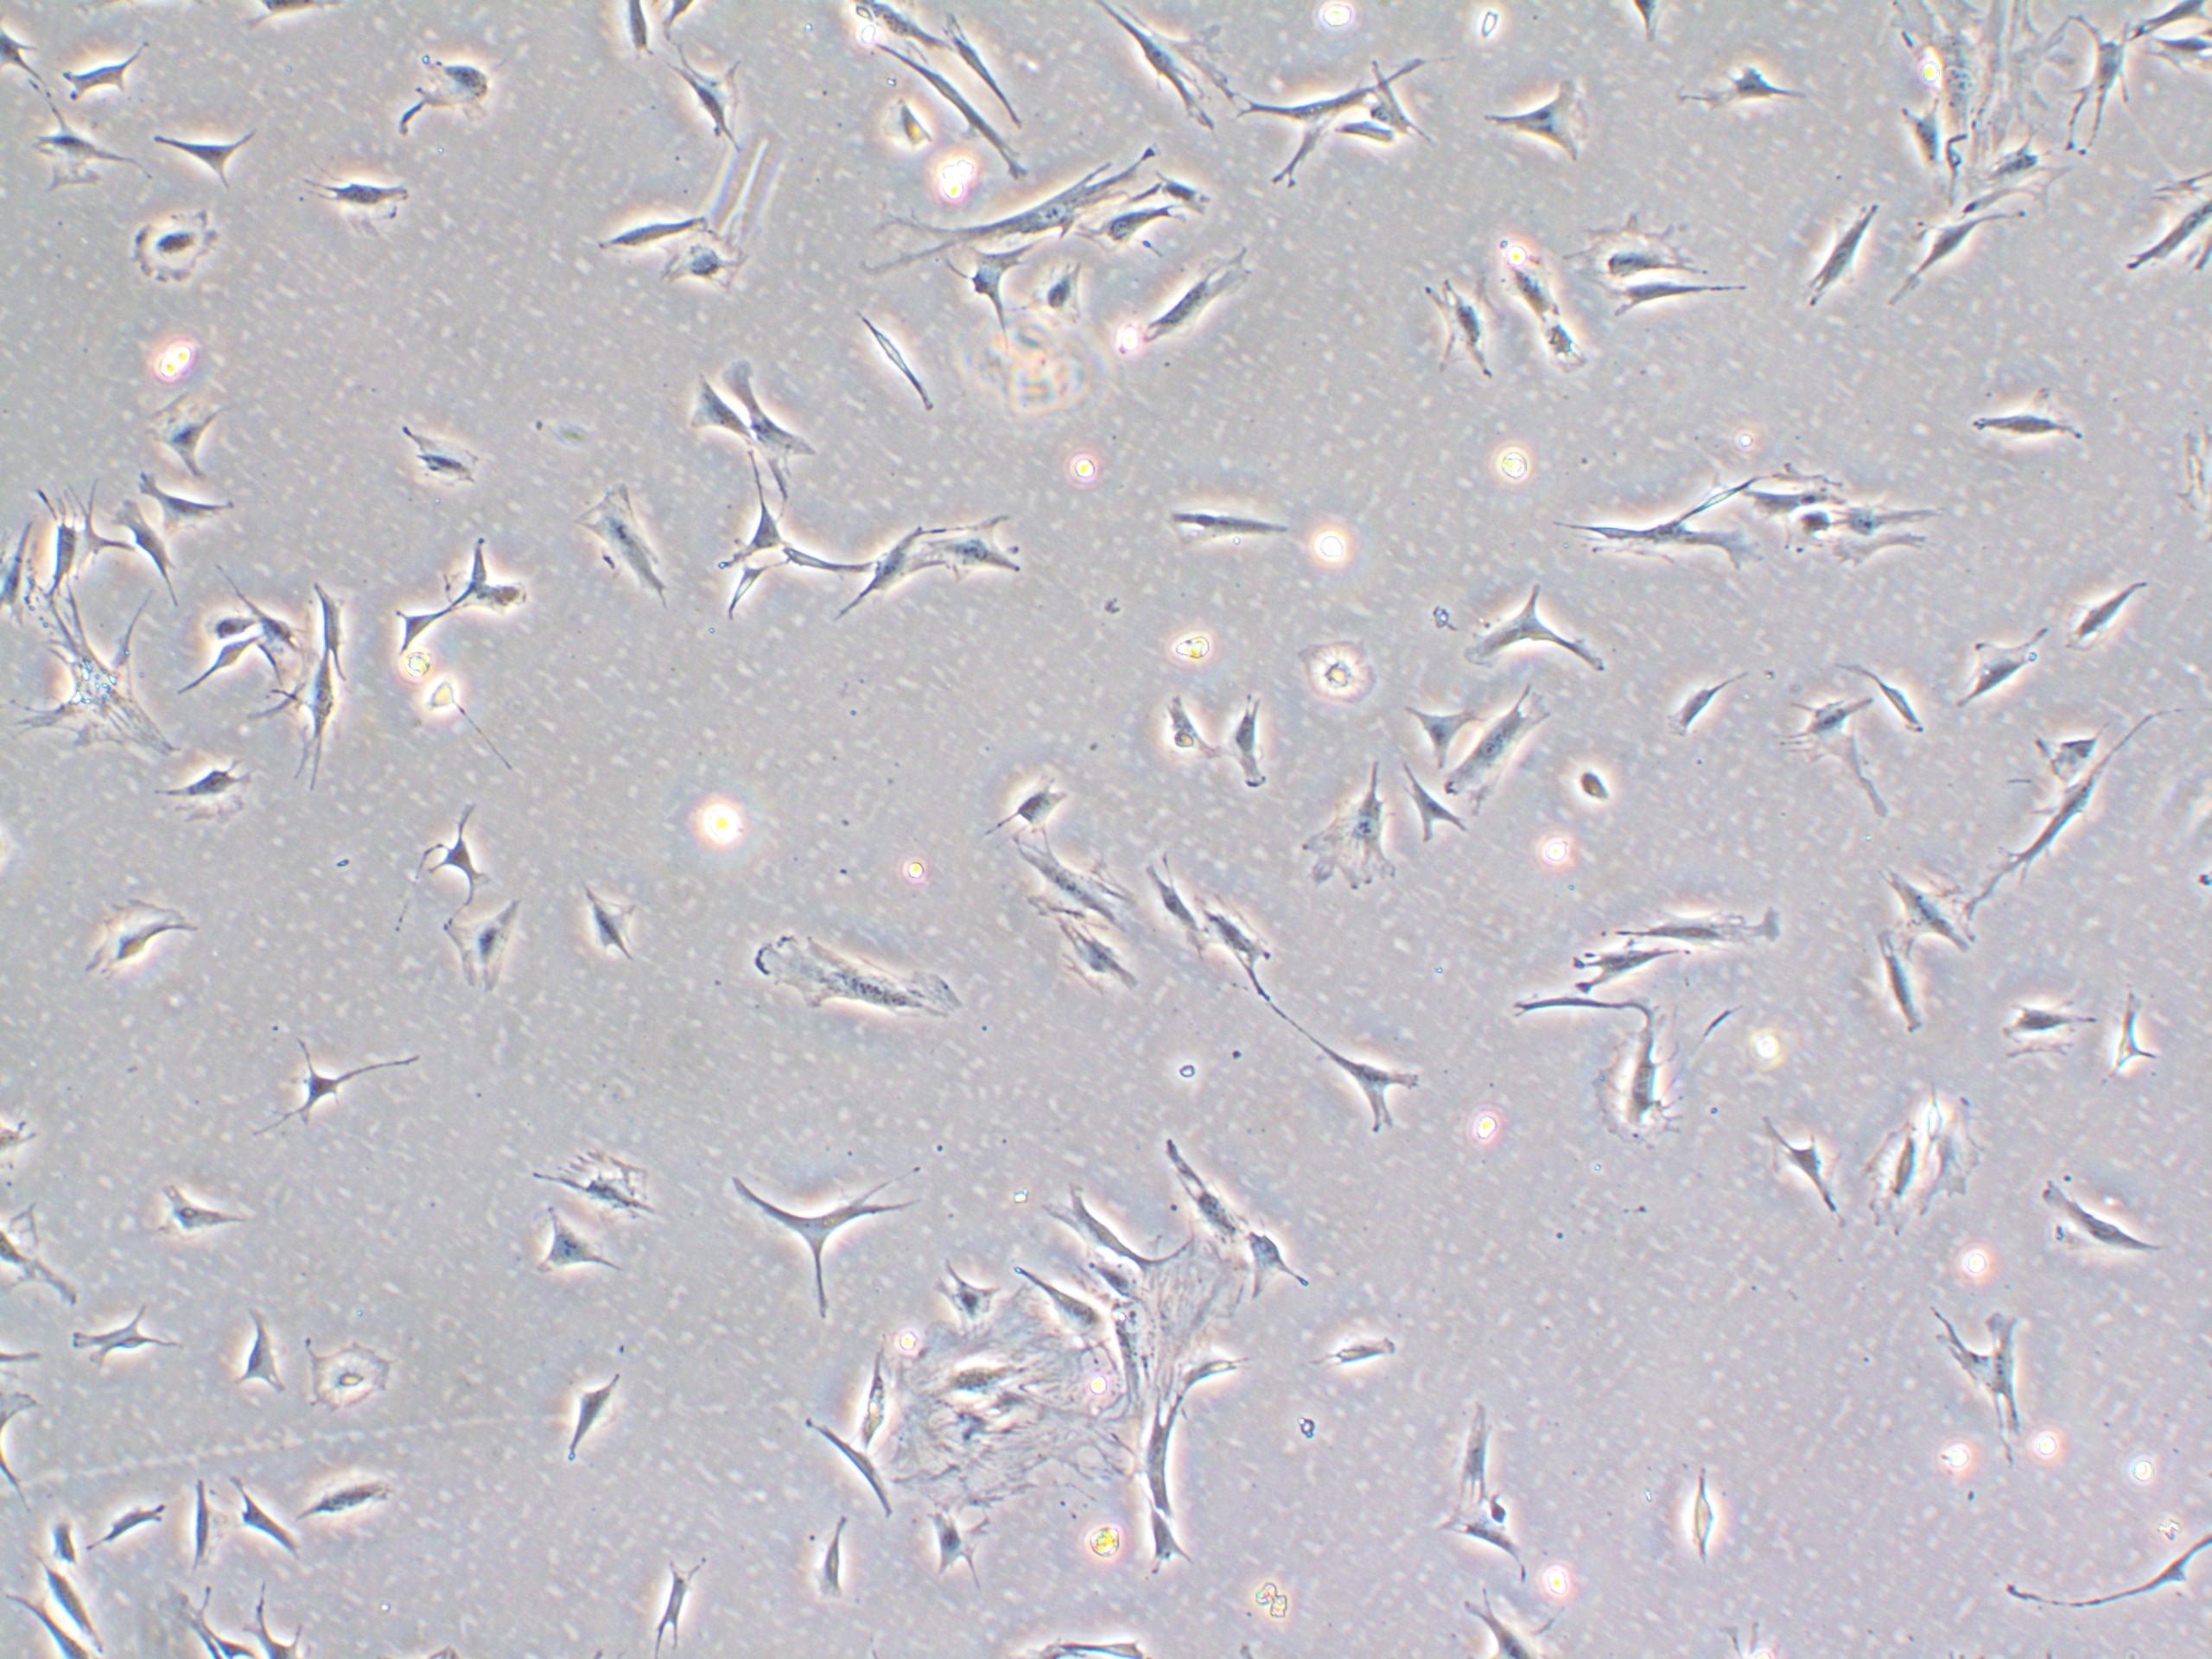Etc: (846, 300, 949, 418), (1677, 1427, 1738, 1582), (2114, 957, 2156, 1107)
polygonal: (867, 150, 1160, 279), (714, 1159, 935, 1324), (2000, 714, 2156, 899), (1226, 47, 1435, 185), (845, 40, 1026, 193), (1439, 685, 1590, 823), (1278, 1018, 1428, 1150), (249, 647, 364, 817), (1453, 568, 1620, 685), (1123, 246, 1278, 368), (1914, 1297, 2036, 1446), (66, 887, 218, 1006), (1103, 0, 1230, 139), (1559, 502, 1766, 586), (580, 476, 679, 650), (279, 152, 428, 265), (1146, 1127, 1268, 1265), (1735, 1096, 1855, 1234), (526, 1347, 634, 1499), (1465, 68, 1611, 179), (937, 0, 1050, 141), (2040, 1168, 2182, 1279), (1000, 829, 1157, 929), (1794, 179, 1893, 336), (1148, 484, 1317, 572), (1191, 880, 1296, 1019), (1040, 1178, 1177, 1283), (1946, 615, 2066, 732), (939, 246, 1045, 373), (723, 342, 806, 502), (1888, 209, 2019, 310), (916, 504, 1029, 619), (637, 350, 758, 457), (1602, 878, 1782, 948), (664, 42, 773, 155), (2043, 568, 2161, 673), (214, 1485, 331, 1588), (836, 511, 935, 629), (786, 1419, 906, 1516), (1414, 270, 1496, 413), (131, 392, 270, 476), (1959, 380, 2104, 460), (1787, 674, 1876, 802), (1005, 1255, 1118, 1354), (1843, 929, 1935, 1044), (1683, 59, 1810, 141), (298, 1455, 425, 1537), (517, 1204, 622, 1303), (432, 901, 533, 1002), (385, 390, 486, 491), (416, 793, 507, 904), (1047, 932, 1160, 1018), (157, 744, 258, 838), (716, 464, 803, 572), (214, 1300, 294, 1417), (563, 207, 732, 261), (117, 500, 186, 631), (132, 1175, 260, 1244), (153, 118, 261, 200), (1602, 275, 1750, 335), (1477, 227, 1561, 329), (44, 1319, 192, 1377), (1130, 1495, 1219, 1591), (23, 1554, 111, 1650), (1878, 863, 1975, 950), (1843, 652, 1935, 742), (89, 1481, 188, 1565), (639, 1544, 711, 1659), (1068, 202, 1195, 267), (19, 113, 143, 179), (1540, 943, 1691, 997), (1374, 767, 1470, 852), (296, 566, 369, 678), (1137, 843, 1207, 960), (1359, 56, 1442, 152), (131, 477, 233, 554), (1219, 666, 1275, 807), (564, 871, 643, 971), (1656, 667, 1757, 744), (995, 748, 1076, 842), (792, 1514, 864, 1619), (169, 626, 265, 702), (1393, 697, 1480, 779), (2003, 997, 2094, 1073), (1428, 1502, 1533, 1568), (1130, 1398, 1183, 1528), (221, 559, 298, 648), (1440, 1403, 1500, 1514), (925, 1516, 995, 1600), (1238, 1223, 1306, 1309), (2029, 716, 2106, 786), (171, 1467, 225, 1565), (1731, 490, 1871, 526), (31, 1516, 101, 1579), (444, 521, 493, 606), (193, 605, 270, 648), (402, 594, 439, 664)
small-round: (301, 1328, 402, 1438), (1291, 620, 1390, 714), (1552, 742, 1651, 828), (409, 676, 488, 732)
spread: (885, 1309, 1127, 1565), (725, 904, 1003, 1039), (0, 579, 195, 765), (1078, 1230, 1252, 1434), (1892, 0, 2073, 183), (1296, 749, 1433, 925), (1580, 1006, 1700, 1161), (1865, 1087, 1977, 1248), (1566, 206, 1717, 301)
